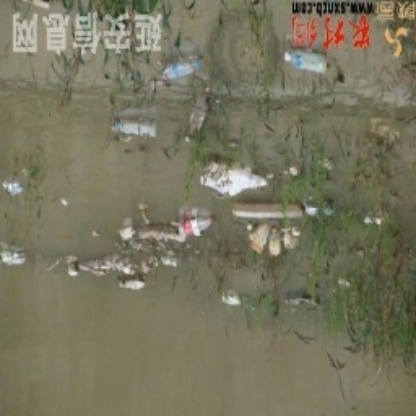bottle: (278, 44, 333, 77), (161, 52, 207, 82), (176, 210, 220, 241), (112, 113, 159, 141)
